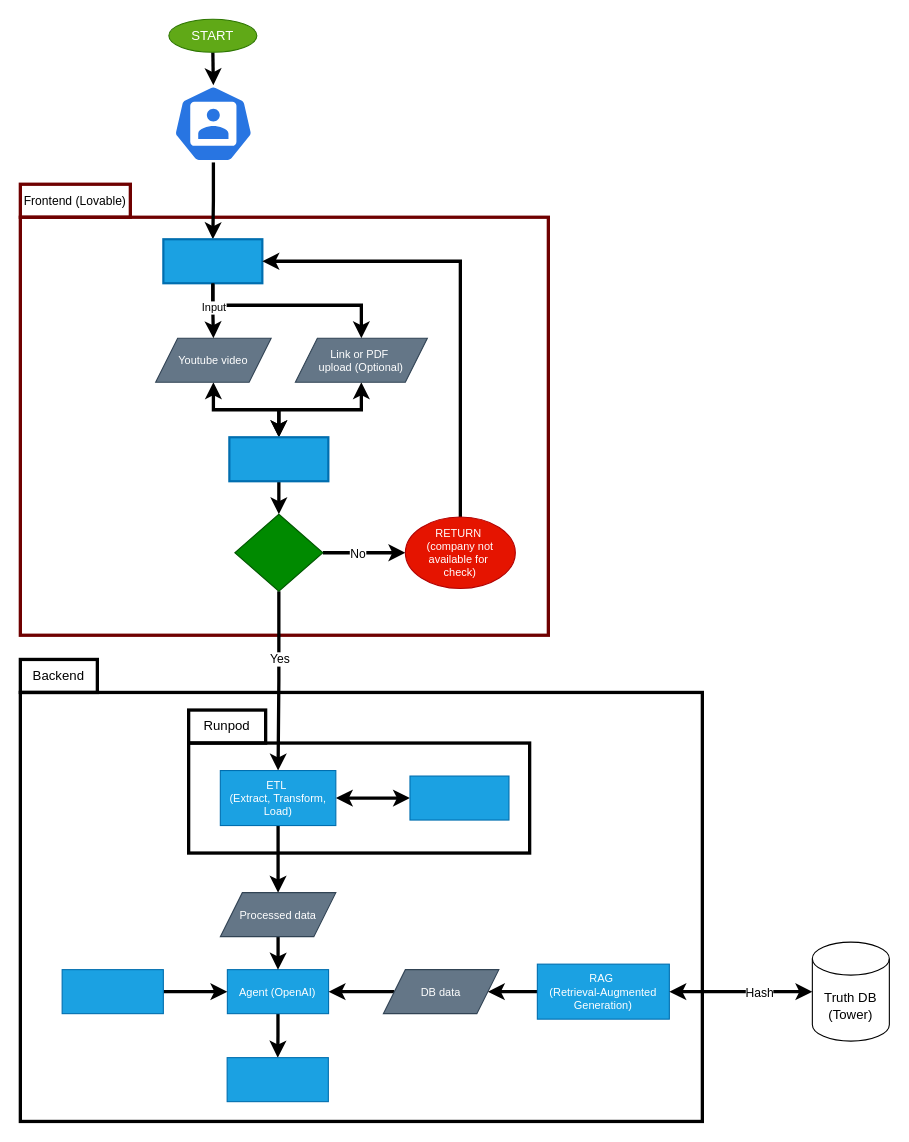
Some shapes in this 909 by 1142 pixel diagram are drawn without their labels. Here are the shapes that lost their labels. From the top down, the centre of each, then its label:
At (x=212, y=123): "User".
At (x=212, y=261): "Landing page".
At (x=278, y=459): "Company list".
At (x=278, y=552): "Company available?".
At (x=459, y=797): "OCR / Fetch".
At (x=112, y=991): "Opik (AI monitoring)".
At (x=277, y=1079): "Veredict".
